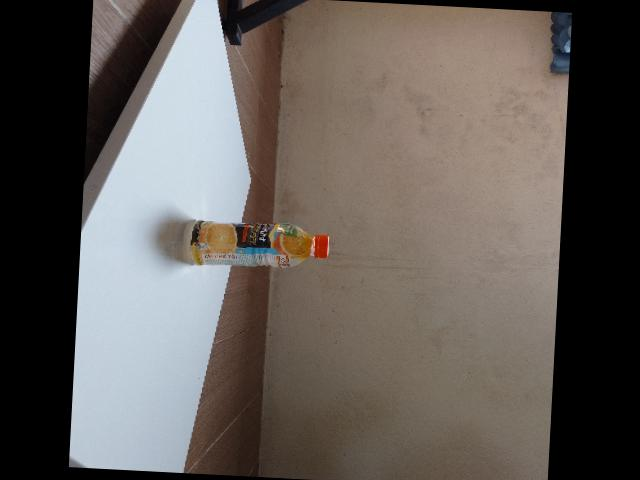teppy_orange_juice: (181, 220, 328, 268)
